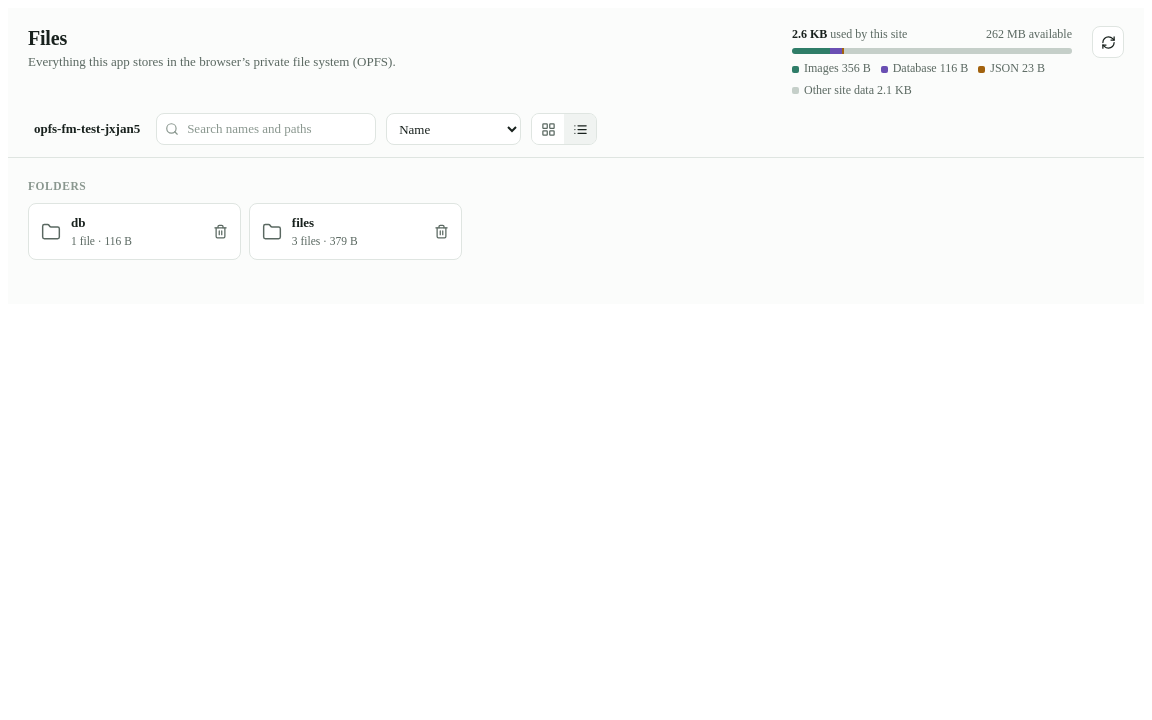
Test: OPFSFilesManager › deleting a folder › saves the folder as a .zip without closing the dialog
This screenshot has width=1152, height=720.
Click the button "files 3 files · 379 B" at (355, 232), box 249,203 -> 462,260
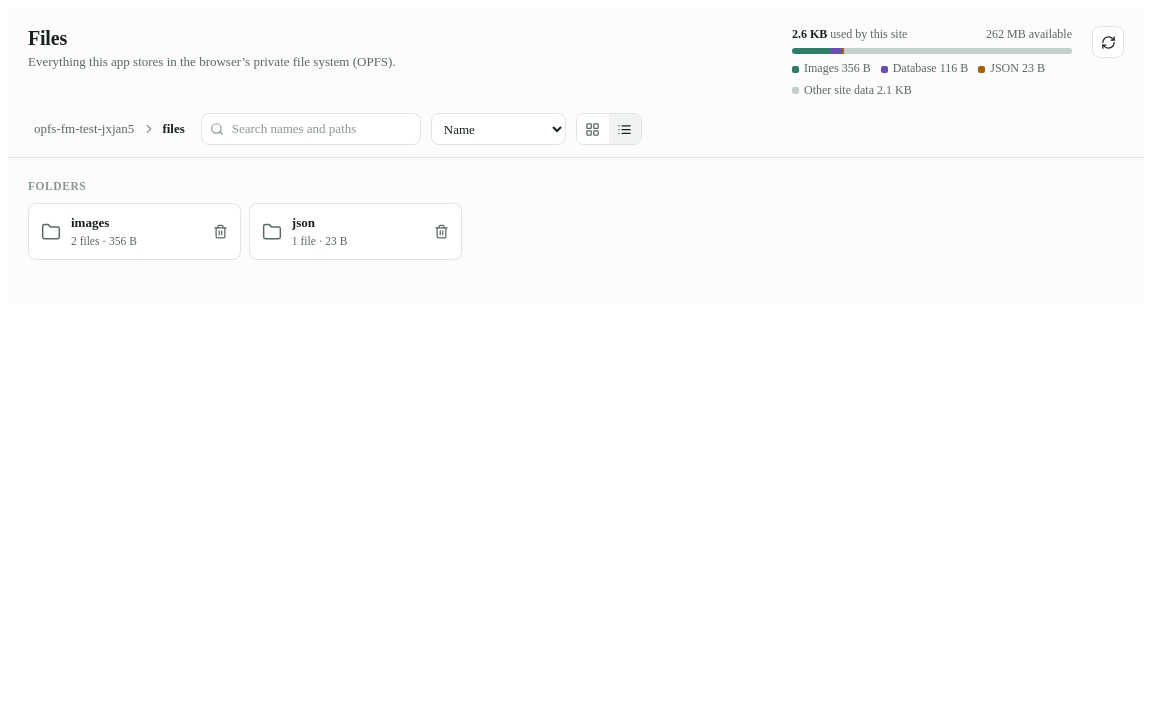
Click the button named "Delete folder images" at (221, 232), box 207,218 -> 235,246
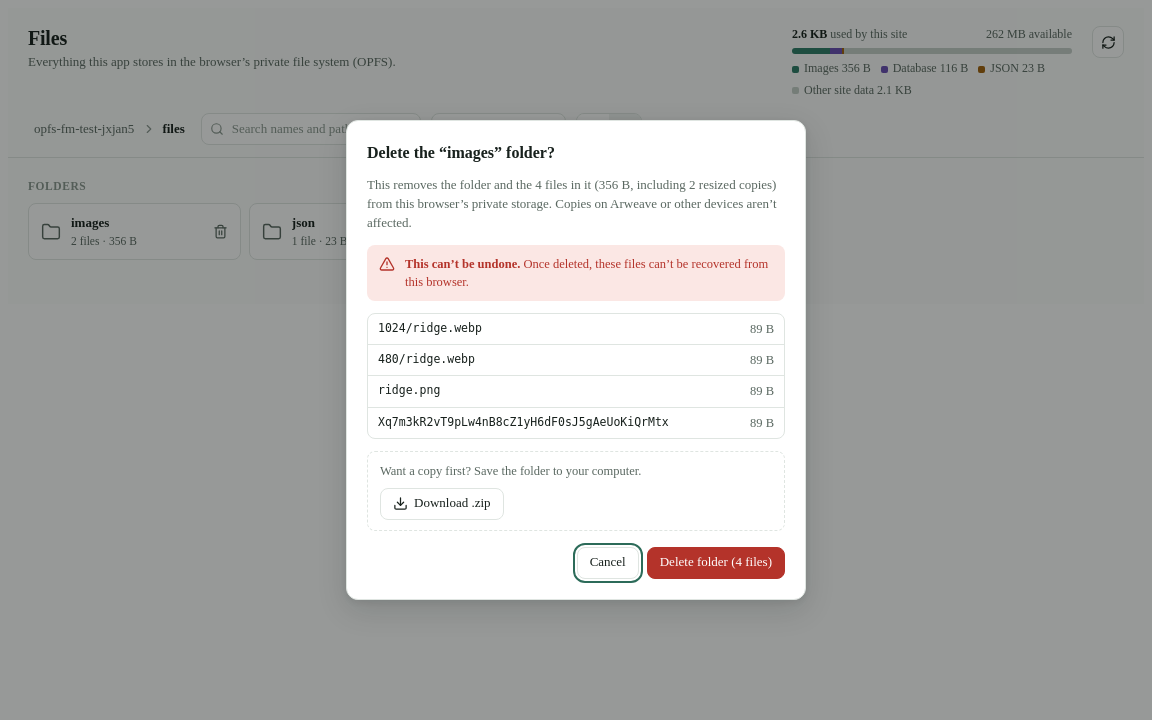
Click the button "Download .zip" at (442, 504), box 380,488 -> 504,520
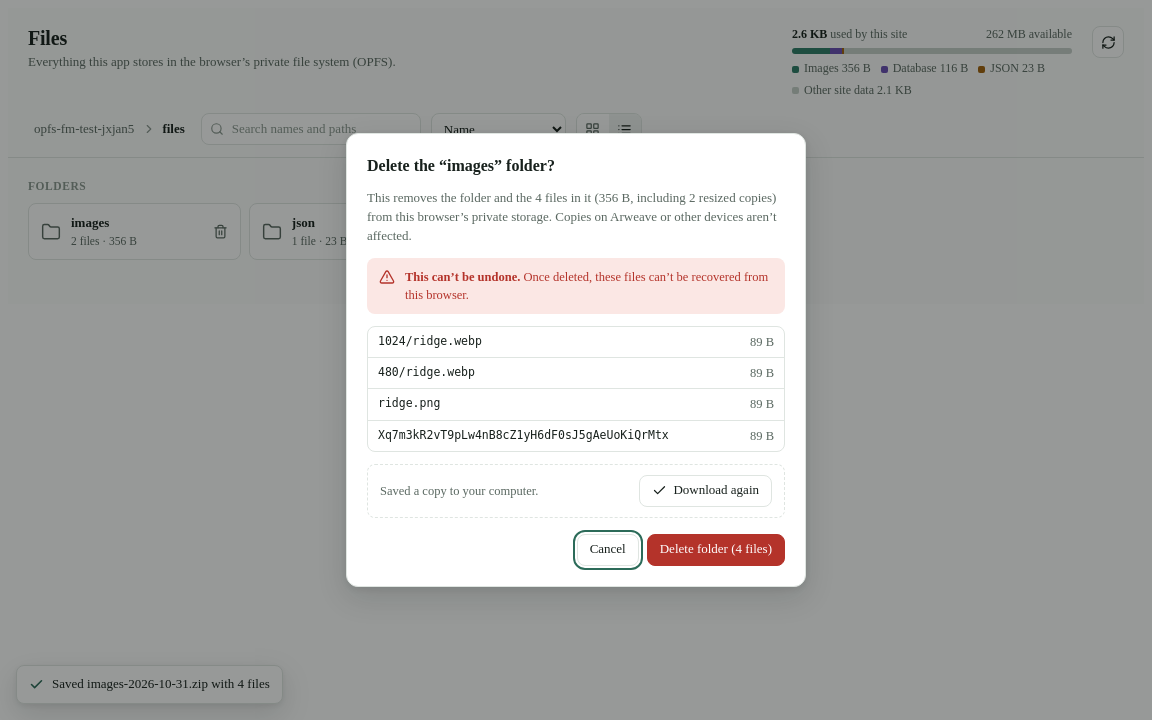
Expected: the button "Download again" is shown, 639,475 -> 772,507
